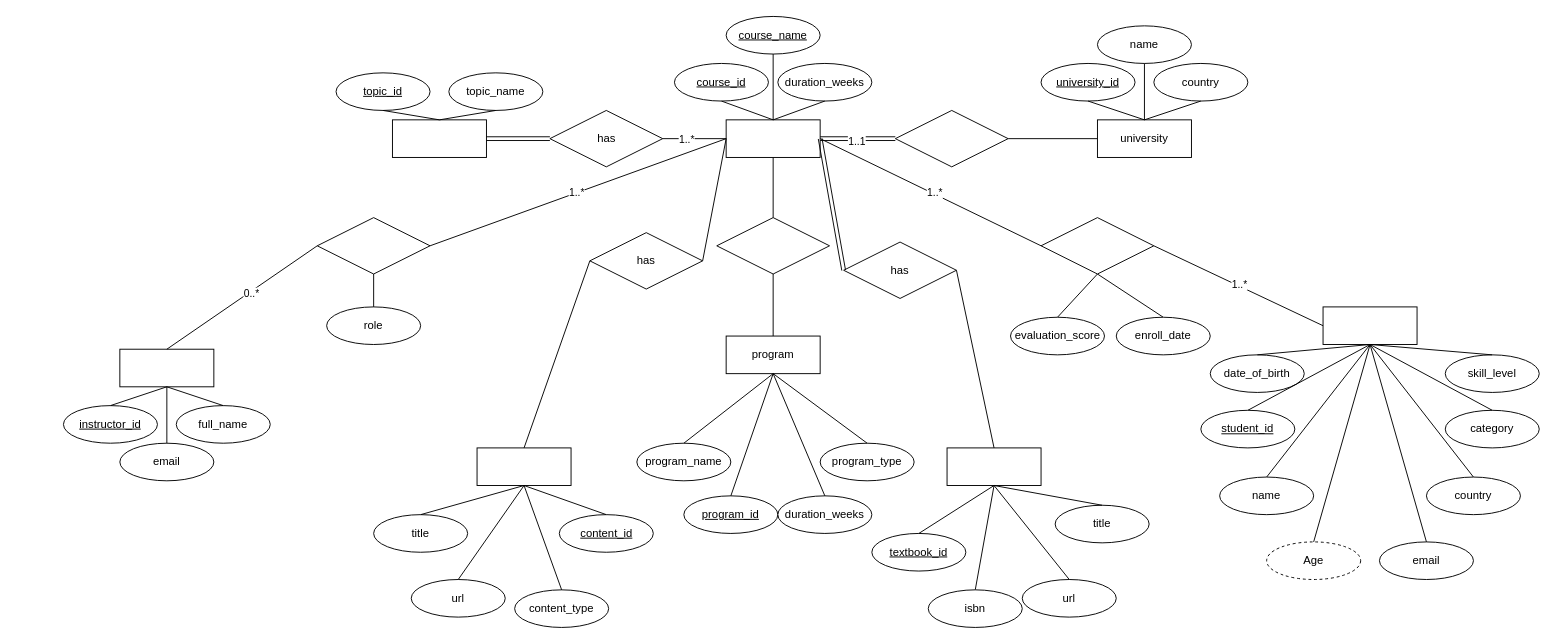
Some shapes in this 1556 by 644 pixel diagram are drawn without their labels. Each missing label, with the centre of its shape:
contains: pixel 773 245
content_item: pixel 523 466
course: pixel 772 138
enrollment: pixel 1097 245
Instructor: pixel 166 367
partners with: pixel 951 138
student: pixel 1369 325
teaching_assignment: pixel 373 245
textbook: pixel 993 466
topic: pixel 439 138
